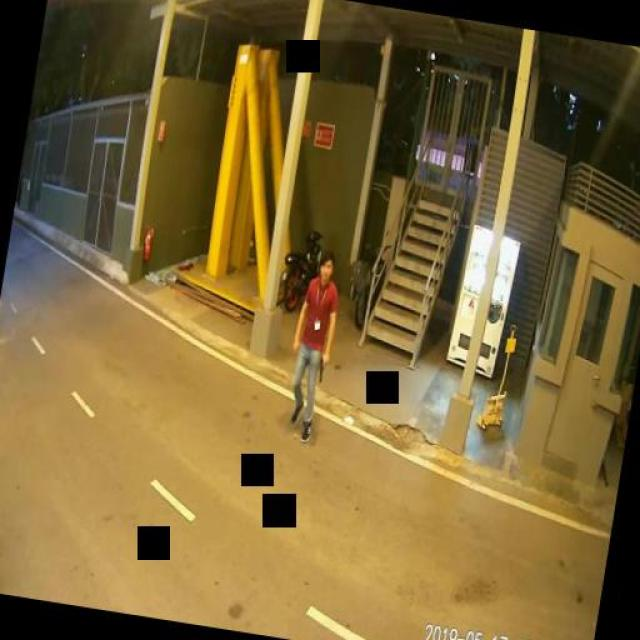gun: (315, 351, 327, 380)
